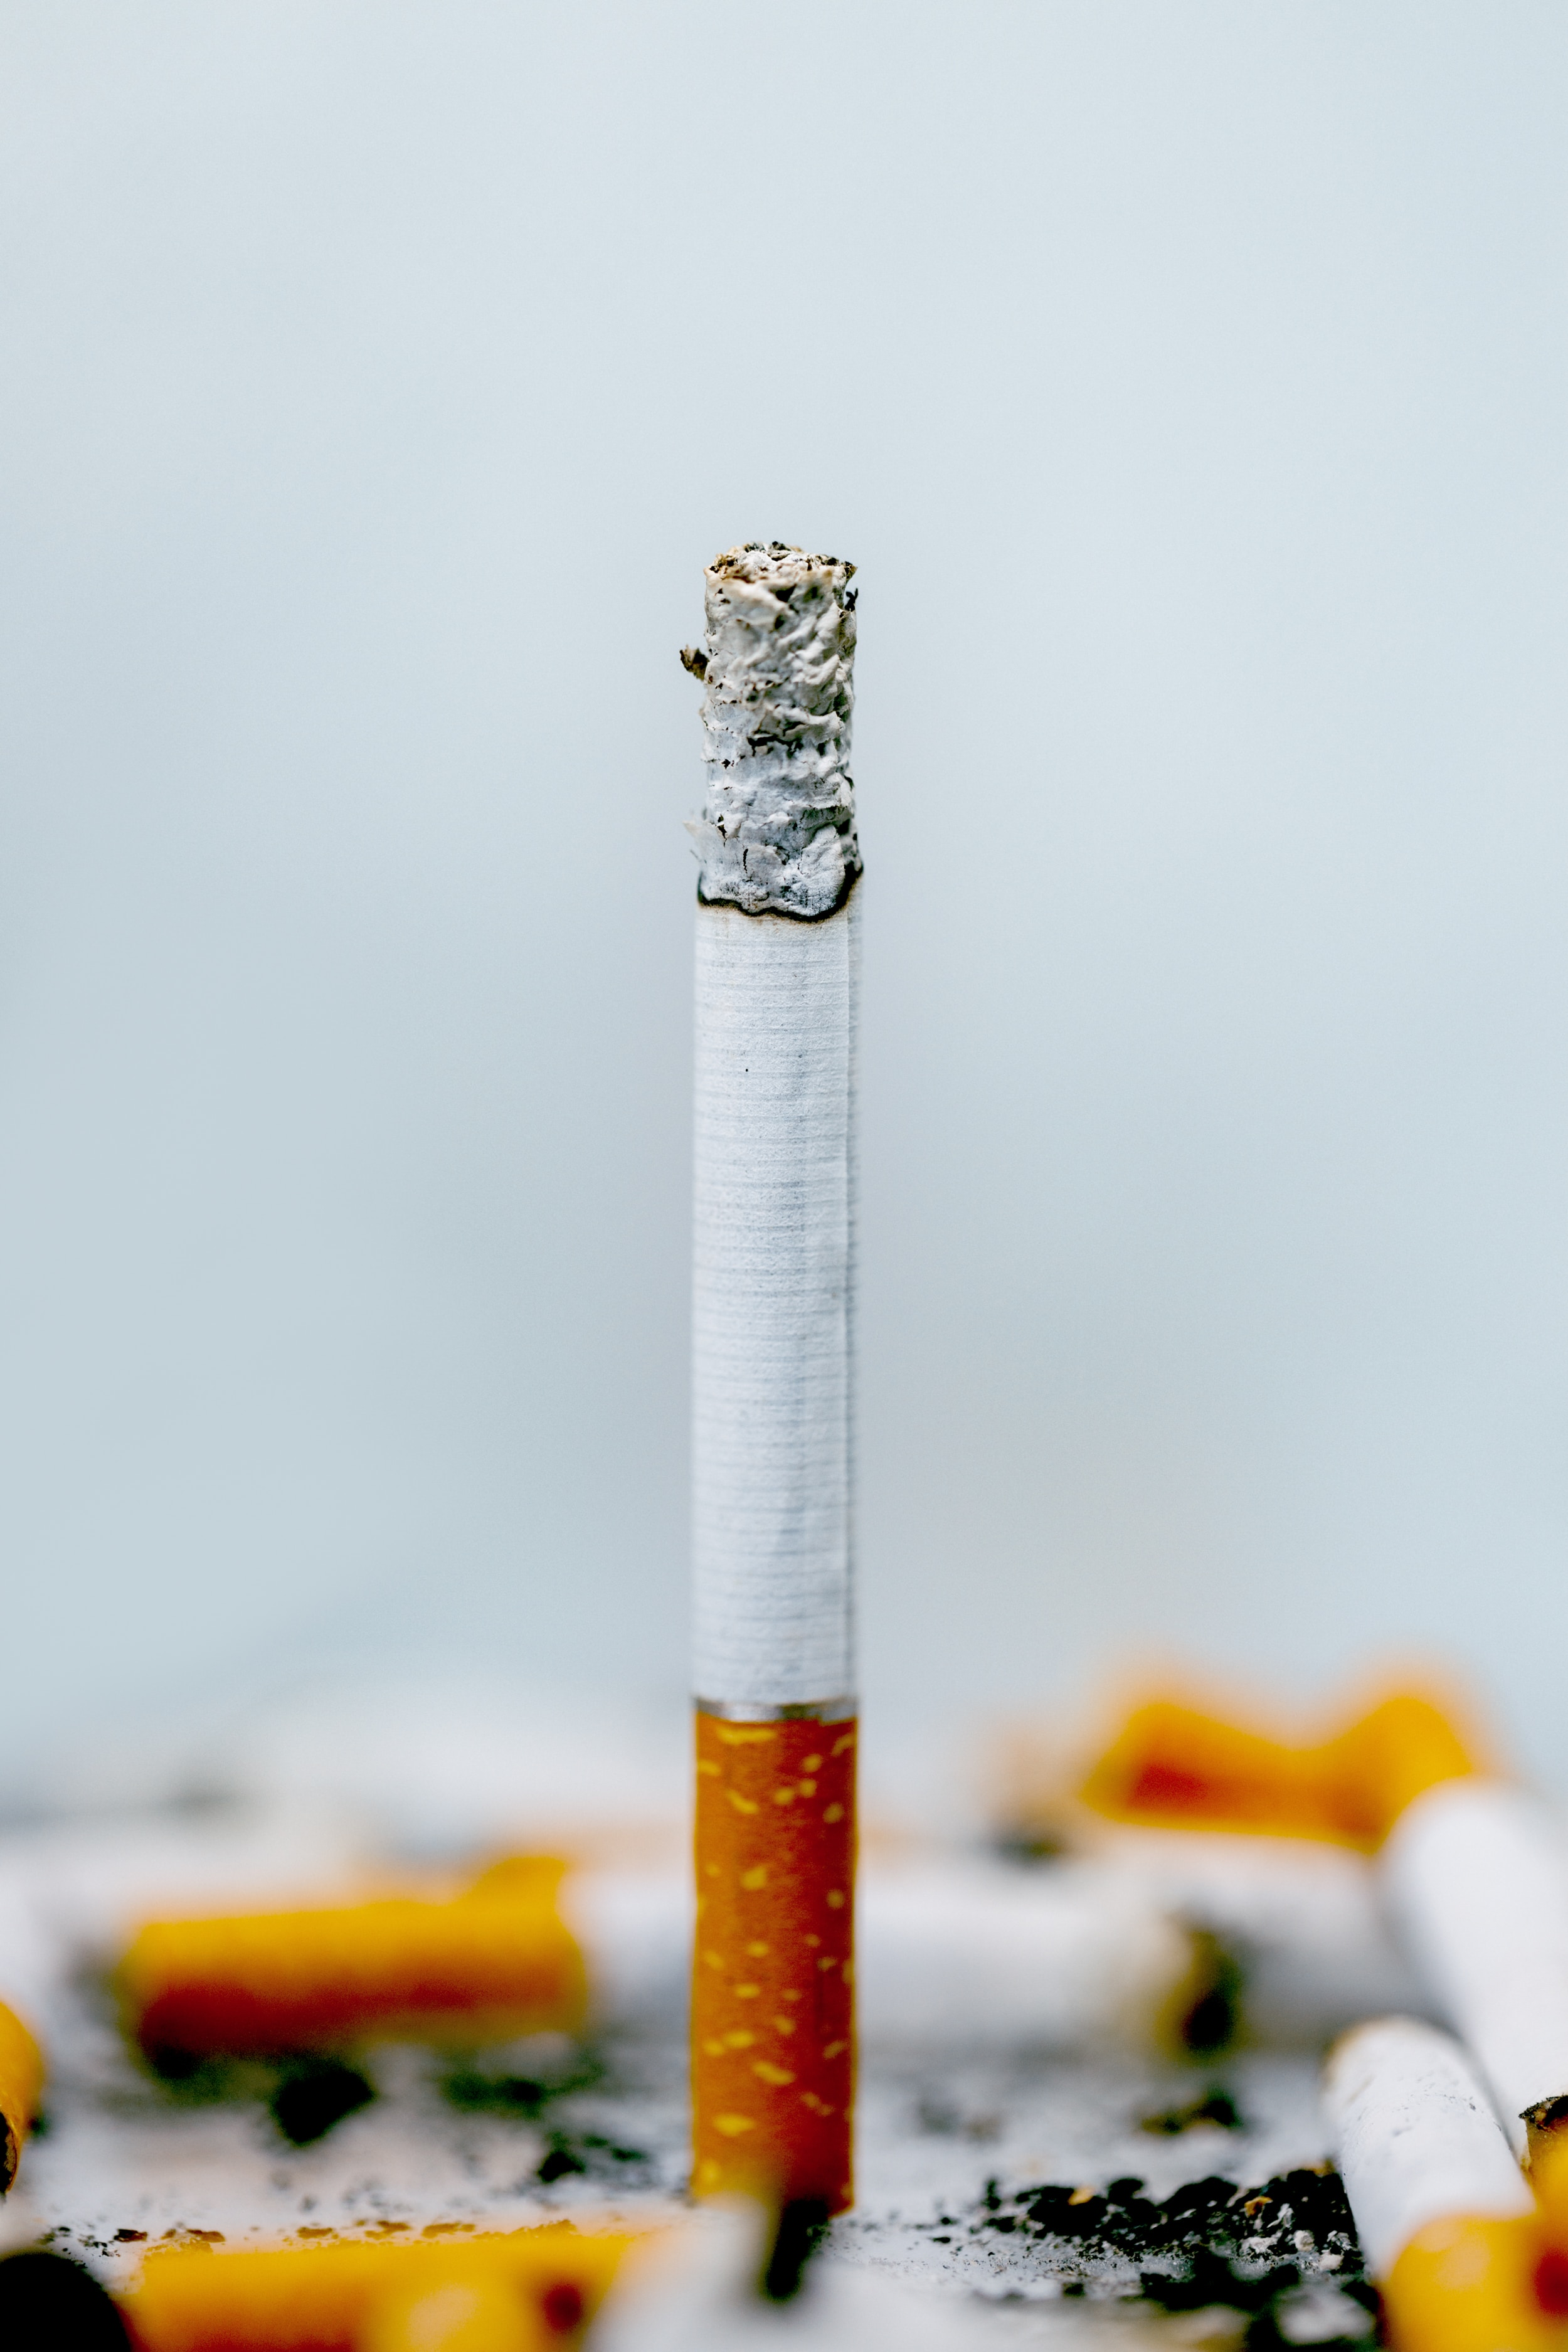cigarette: (669, 525, 884, 2257), (96, 1836, 1290, 2116), (1342, 1698, 1568, 2219), (1318, 1976, 1568, 2352)
